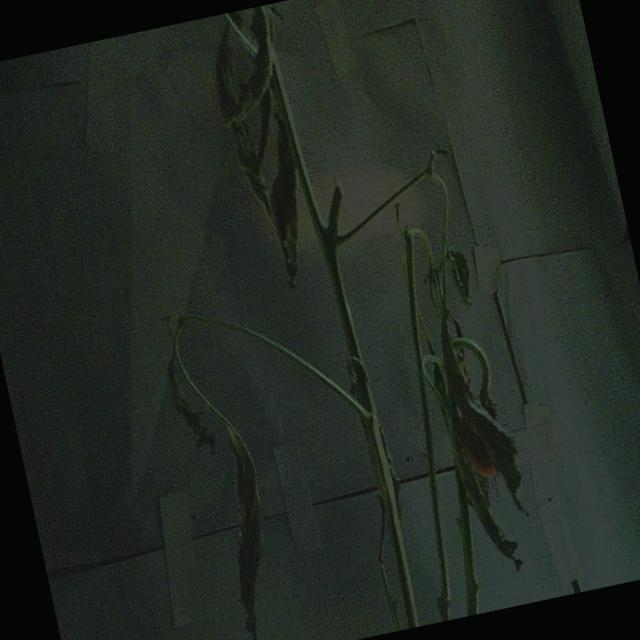Leaf: (425, 287, 534, 532), (201, 399, 293, 640), (201, 24, 290, 242), (247, 104, 326, 287)
